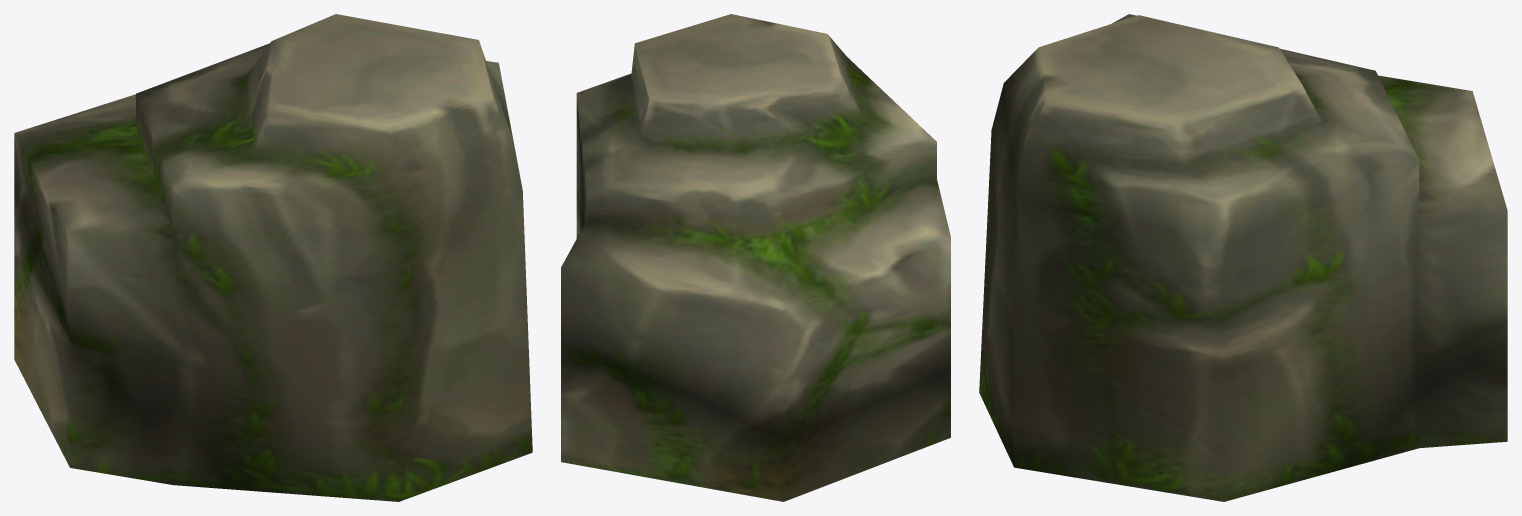
Rendered from RockFormation_4_5 (25).fbx.
3 views of the same model, side by side, from view 1: azimuth 30°, elevation 25°; view 2: azimuth 150°, elevation 25°; view 3: azimuth 270°, elevation 25° (orthographic). The views are drawn at different scales.
Visible parts, largest first — view 1: RockFormation_4_5 (25); view 2: RockFormation_4_5 (25); view 3: RockFormation_4_5 (25).
Boxes of the visible parts, box(x1,y1,x2,y2) form: RockFormation_4_5 (25): box(14, 14, 532, 501); RockFormation_4_5 (25): box(561, 14, 950, 501); RockFormation_4_5 (25): box(979, 14, 1507, 501).
Size of the model in its own units: 755 by 583 by 786.
Materials: 1 (1 with a texture image).
